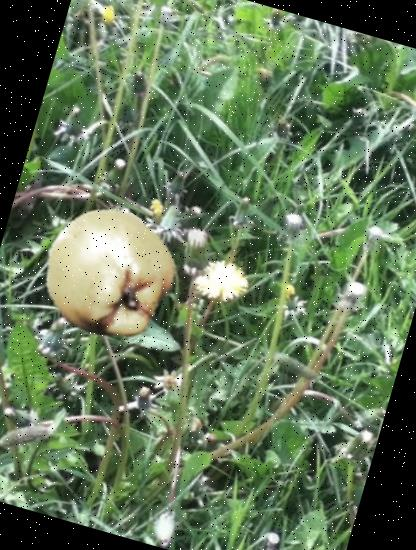Quince: (27, 194, 187, 354)
